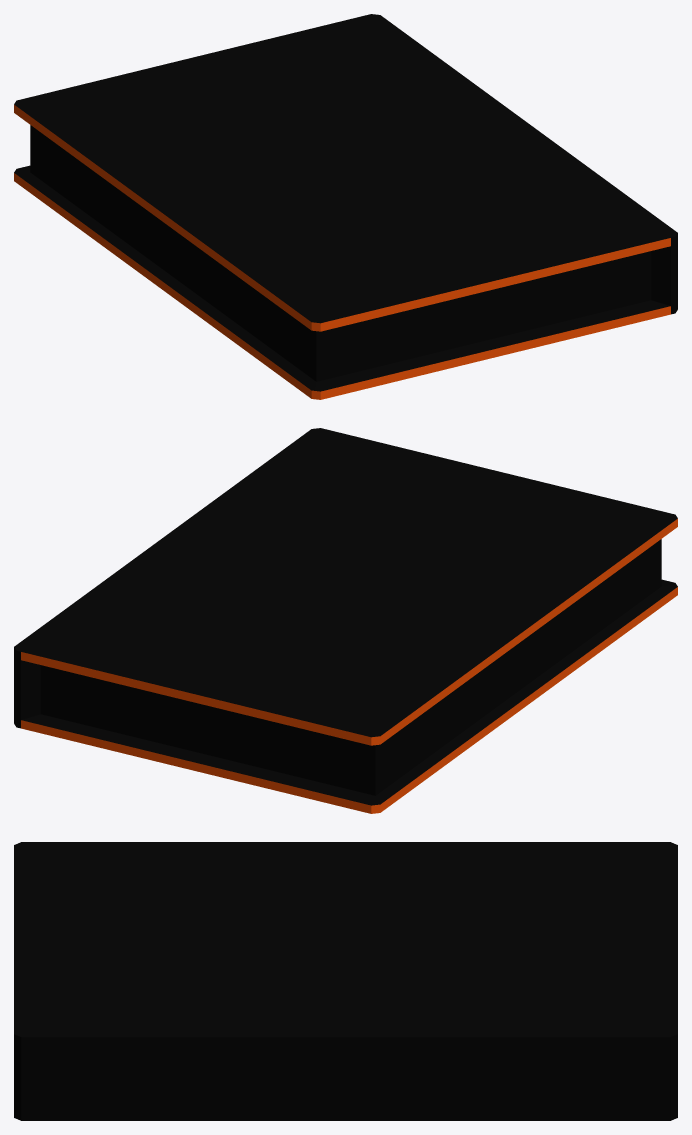
File: SolderingPack.fbx
The picture shows the model from 3 angles, top to bottom: view 1: azimuth 30°, elevation 25°; view 2: azimuth 150°, elevation 25°; view 3: azimuth 270°, elevation 25°; orthographic projection. The views are drawn at different scales.
Parts seen in each view (by area): view 1: SolderingPack; view 2: SolderingPack; view 3: SolderingPack.
Boxes of the visible parts, x1,y1,x2,y2 form: SolderingPack: (14, 14, 677, 399); SolderingPack: (14, 428, 677, 813); SolderingPack: (14, 842, 677, 1120).
Bounding box in the file's own units: 24.41 × 4.88 × 35.1.
